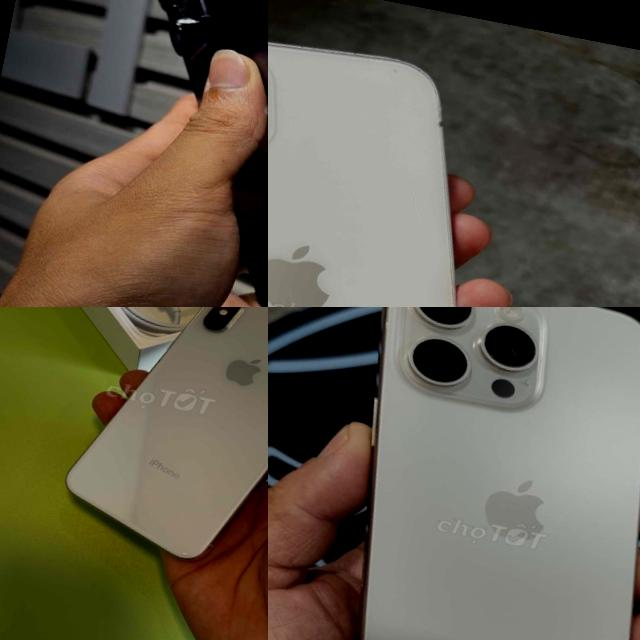gen_12_13: (268, 0, 569, 307)
gen_14: (55, 0, 268, 307)
gen_15: (307, 307, 640, 640)
gen_x_xs: (67, 307, 268, 559)
